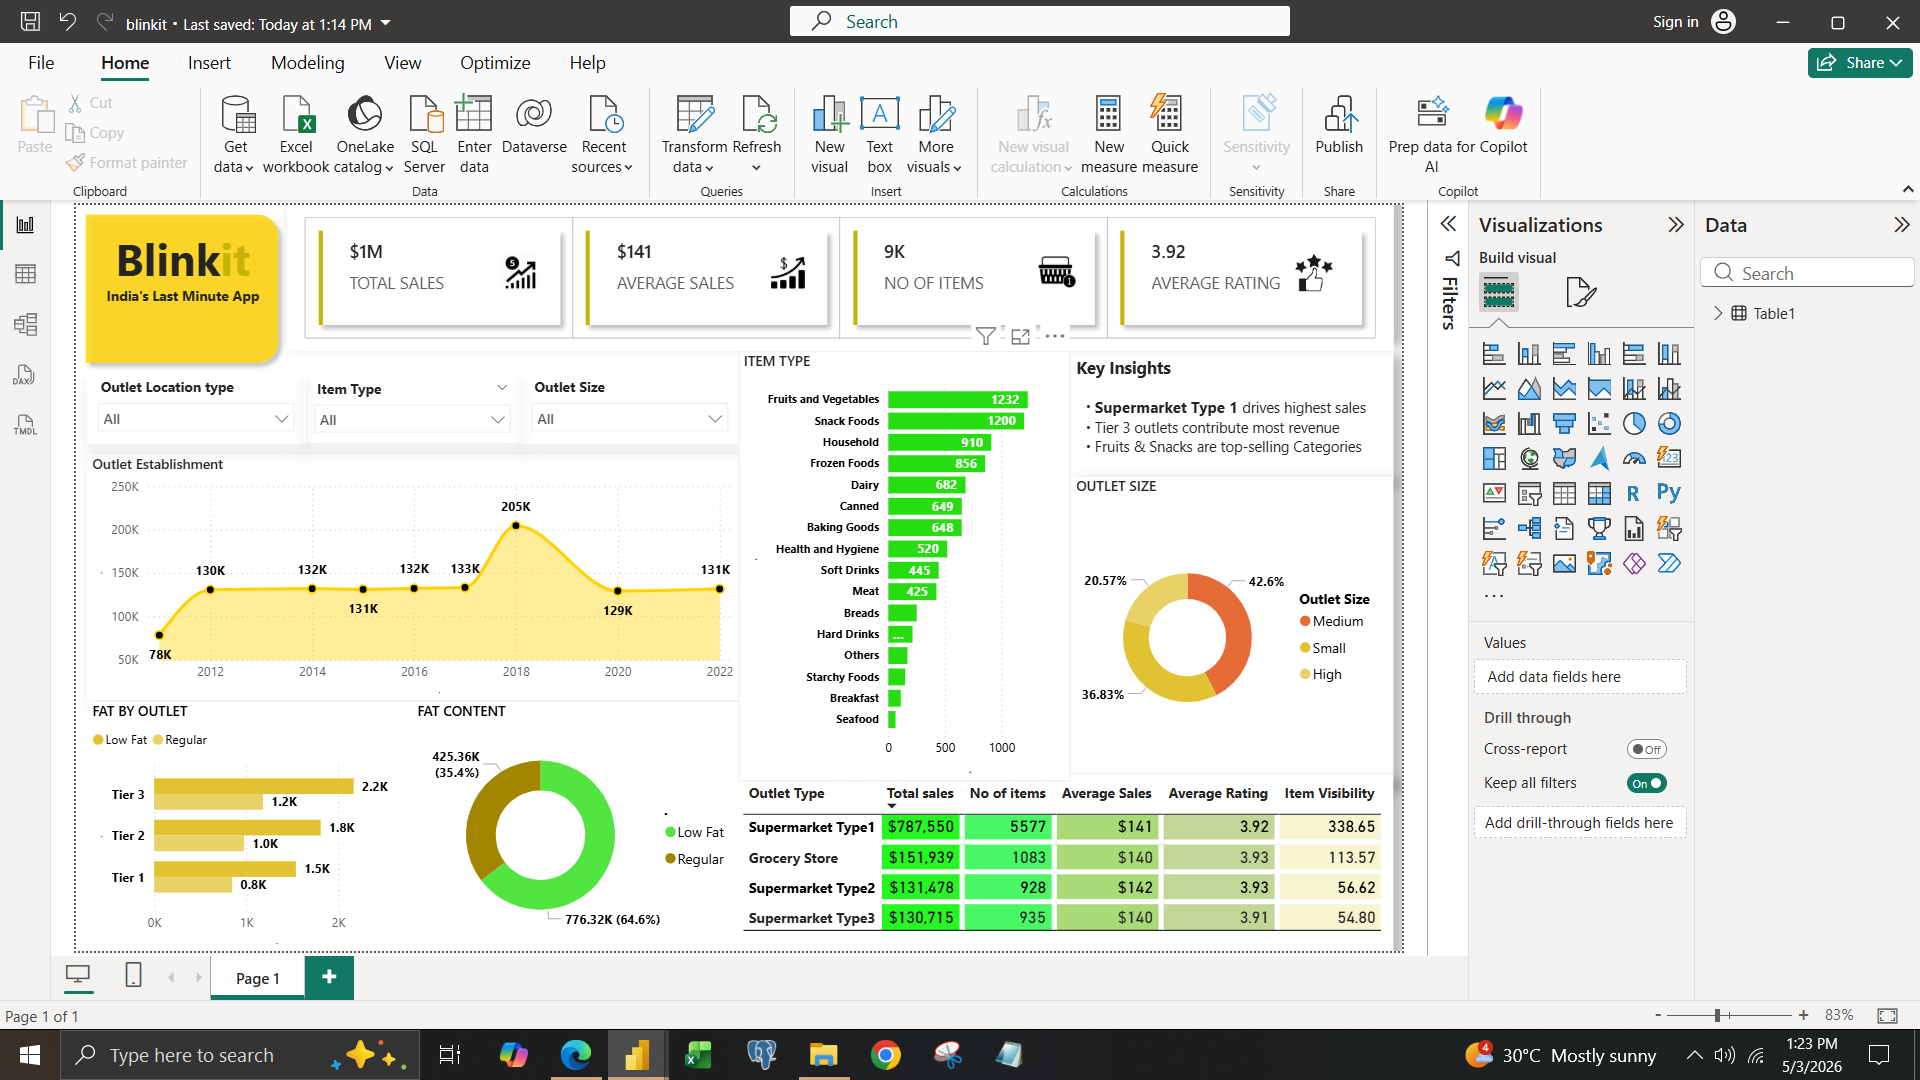

This screenshot's page, from the dashboard's own definition file:
{"tool":"powerbi","page":{"name":"Page 1","canvas":[1280,720],"ordinal":0},"visuals":[{"type":"shape","box":[0,0,204.3,161.4],"z":1000},{"type":"textbox","box":[960.3,141.2,311.3,120.6],"z":1500},{"type":"textbox","box":[10.9,16.9,184.6,124.3],"z":2000},{"type":"cardVisual","fields":{"Data":["Table1.Total sales","Table1.Average Sales","Table1.No of items","Table1.Average Rating"]},"box":[203.9,0,1067.7,141.2],"z":3000},{"type":"areaChart","title":"Outlet Establishment ","fields":{"Category":["Table1.Outlet Establishment Year"],"Y":["Sum(Table1.Sales)"]},"box":[11.4,240,628.6,238.6],"z":4000},{"type":"slicer","fields":{"Values":["Table1.Outlet Location Type"]},"box":[10.9,161.7,210,68.8],"z":5000},{"type":"slicer","fields":{"Values":["Table1.Outlet Size"]},"box":[429.5,161.7,209.9,68.8],"z":6000},{"type":"slicer","fields":{"Values":["Table1.Item Type"]},"box":[219.6,162.9,210,67.6],"z":7000},{"type":"donutChart","title":"OUTLET SIZE","fields":{"Category":["Table1.Outlet Size"],"Y":["CountNonNull(Table1.Outlet Size)"]},"box":[960.3,261.8,311.3,294.4],"z":8000},{"type":"pivotTable","fields":{"Rows":["Table1.Outlet Type"],"Values":["Table1.Total sales","Table1.No of items","Table1.Average Sales","Table1.Average Rating","Sum(Table1.Item Visibility)"]},"box":[639.4,550.1,632.2,170.1],"z":9000},{"type":"donutChart","title":"FAT CONTENT","fields":{"Y":["Table1.Total sales"],"Category":["Table1.Item Fat Content"]},"box":[324.5,479,314.9,241.3],"z":10000},{"type":"clusteredBarChart","title":"ITEM TYPE","fields":{"Category":["Table1.Item Type"],"Y":["Table1.No of items"]},"box":[639.4,141.2,320.9,415],"z":11000},{"type":"clusteredBarChart","title":"FAT BY OUTLET","fields":{"Category":["Table1.Outlet Location Type"],"Y":["CountNonNull(Table1.Item Fat Content)"],"Series":["Table1.Item Fat Content"]},"box":[11.4,478.6,314,241.4],"z":12000},{"type":"image","box":[401.7,44.6,54.3,41],"z":13000},{"type":"image","box":[659.9,44.6,54.3,41],"z":14000},{"type":"image","box":[920.5,39.8,53.1,49.5],"z":15000},{"type":"image","box":[1166.6,32.6,56.7,65.1],"z":16000}]}

Visuals, with their boxes on the page's 1280x720 design canvas (x1, y1, x2, y2). These are canvas units, not pixel positions in the 1920x1080 screenshot, which may show the page scaled, cropped or inside an application window:
shape: pyautogui.locateOnScreen(0, 0, 204, 161)
textbox: pyautogui.locateOnScreen(960, 141, 1272, 262)
textbox: pyautogui.locateOnScreen(11, 17, 196, 141)
cardVisual - Table1.Total sales x Table1.Average Sales: pyautogui.locateOnScreen(204, 0, 1272, 141)
"Outlet Establishment " areaChart: pyautogui.locateOnScreen(11, 240, 640, 479)
slicer - Table1.Outlet Location Type: pyautogui.locateOnScreen(11, 162, 221, 230)
slicer - Table1.Outlet Size: pyautogui.locateOnScreen(430, 162, 639, 230)
slicer - Table1.Item Type: pyautogui.locateOnScreen(220, 163, 430, 230)
"OUTLET SIZE" donutChart: pyautogui.locateOnScreen(960, 262, 1272, 556)
pivotTable - Table1.Outlet Type x Table1.Total sales: pyautogui.locateOnScreen(639, 550, 1272, 720)
"FAT CONTENT" donutChart: pyautogui.locateOnScreen(324, 479, 639, 720)
"ITEM TYPE" clusteredBarChart: pyautogui.locateOnScreen(639, 141, 960, 556)
"FAT BY OUTLET" clusteredBarChart: pyautogui.locateOnScreen(11, 479, 325, 720)
image: pyautogui.locateOnScreen(402, 45, 456, 86)
image: pyautogui.locateOnScreen(660, 45, 714, 86)
image: pyautogui.locateOnScreen(920, 40, 974, 89)
image: pyautogui.locateOnScreen(1167, 33, 1223, 98)
